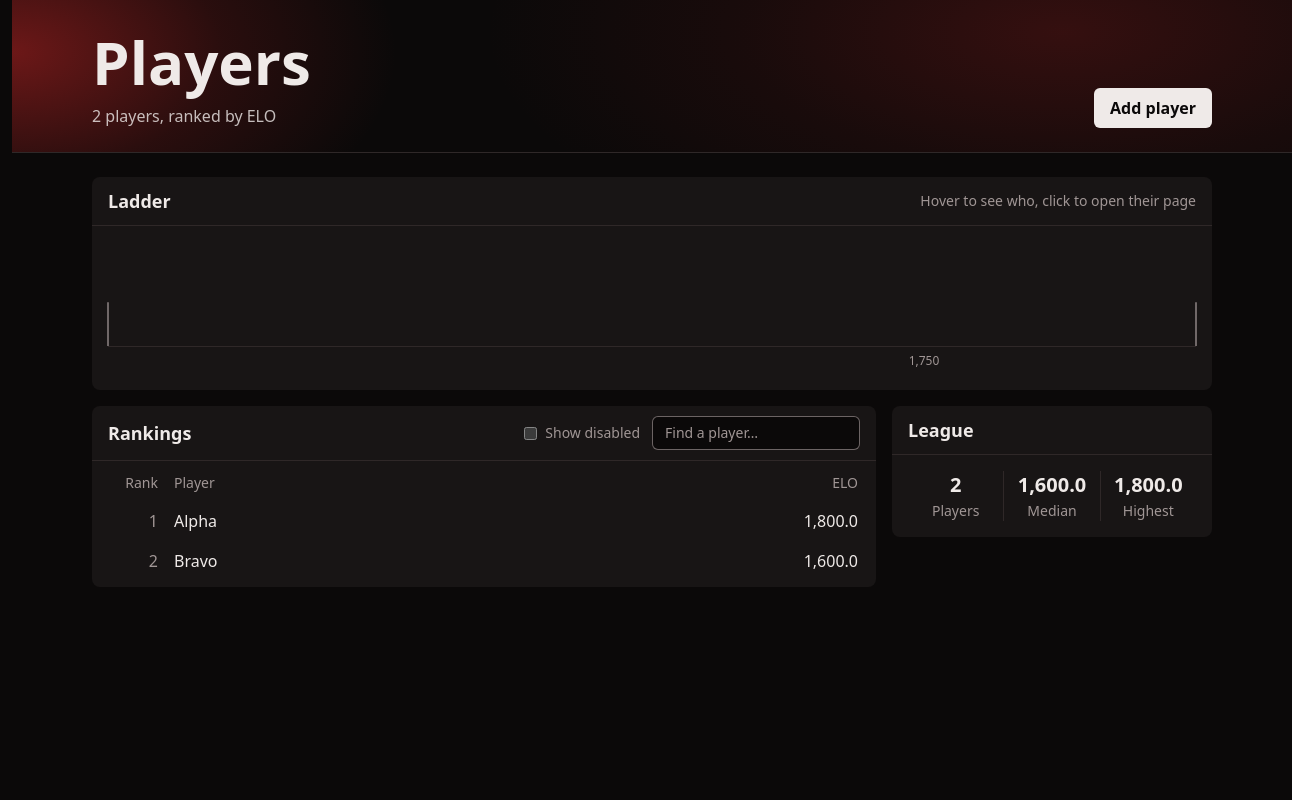
Test: lists disabled players unranked when toggled, and keeps it in the URL
Click the checkbox labelled "Show disabled" at (531, 433), box [524,426,537,440]
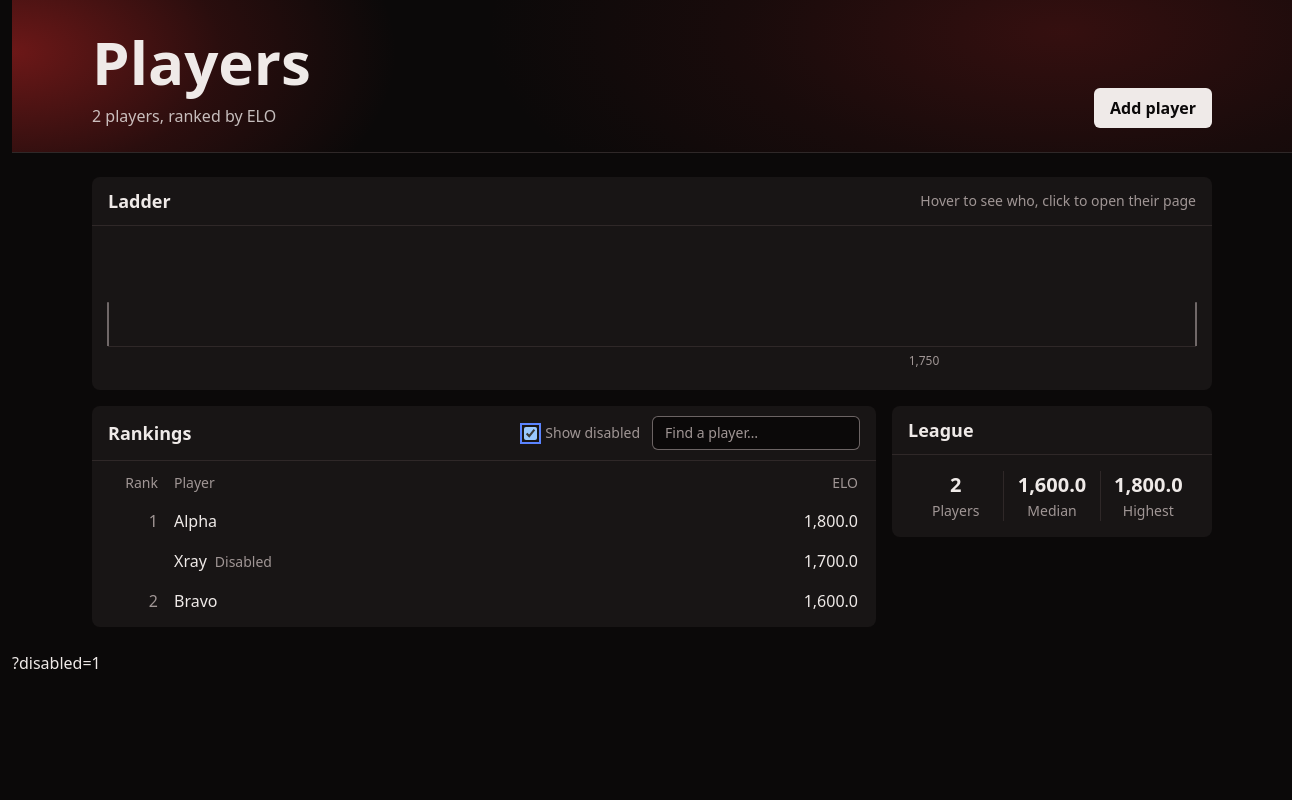
Check: the text named "Search" reads "?disabled=1", box [12,652,101,674]
Check: the text "Xray" is shown, box [174,550,207,572]
Check: the number of links is 3, box [149,510,858,532]; [174,550,858,572]; [149,590,858,612]
